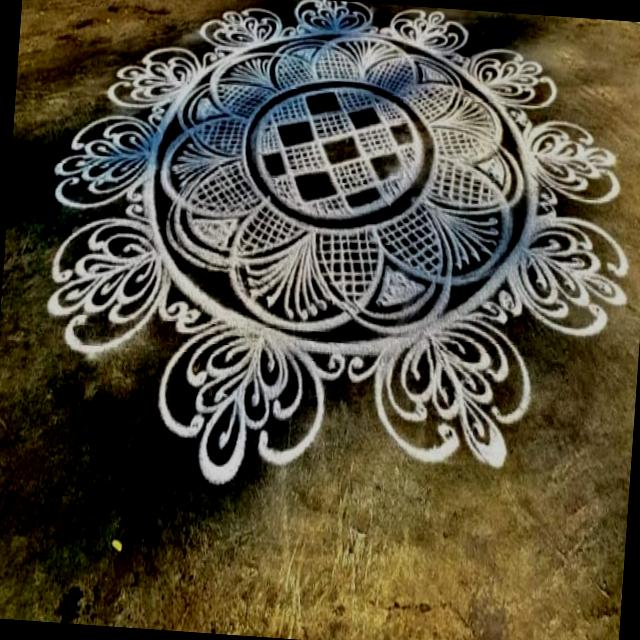rangoli: (37, 0, 640, 509)
